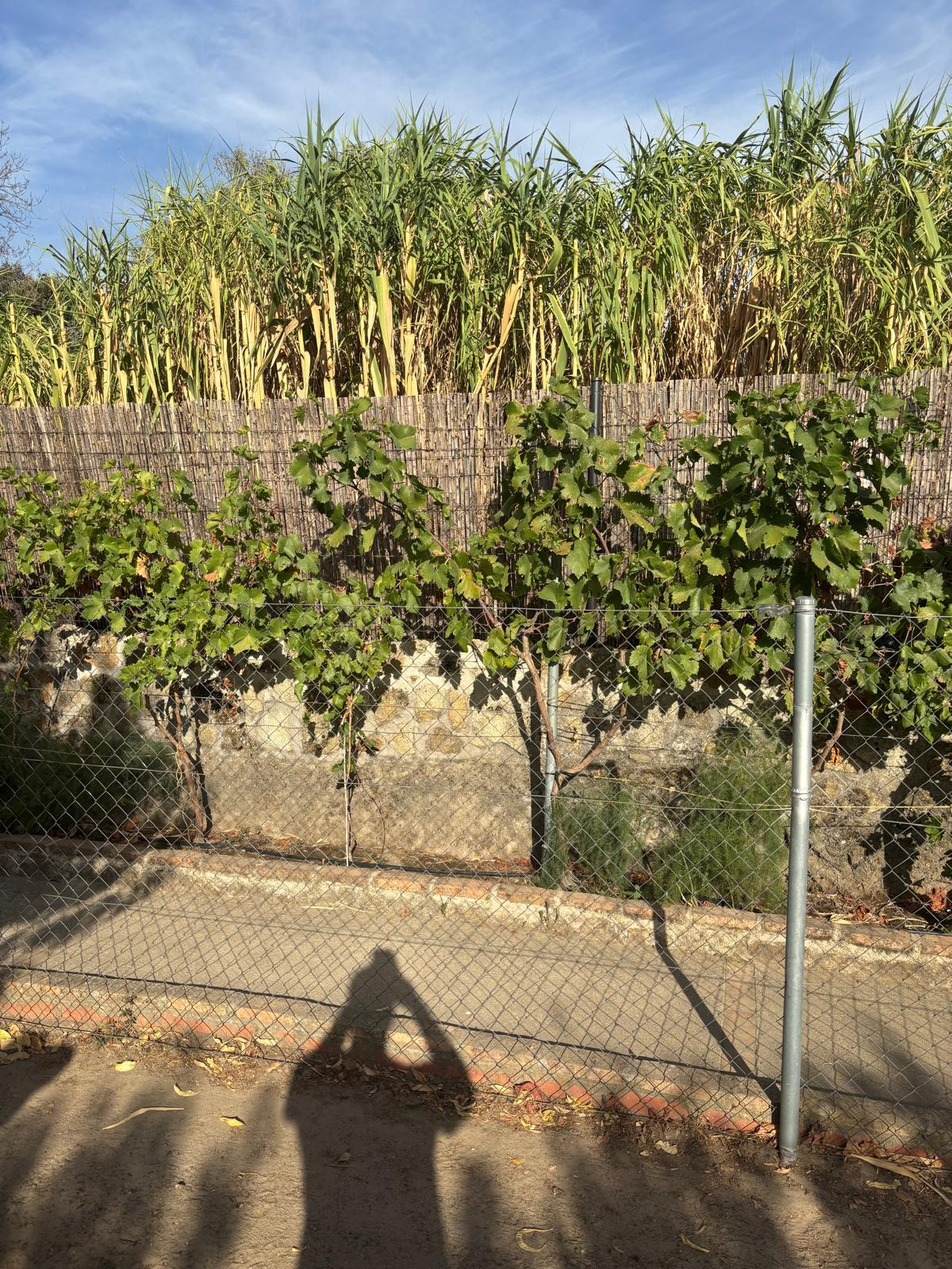vid: (21, 439, 920, 748)
